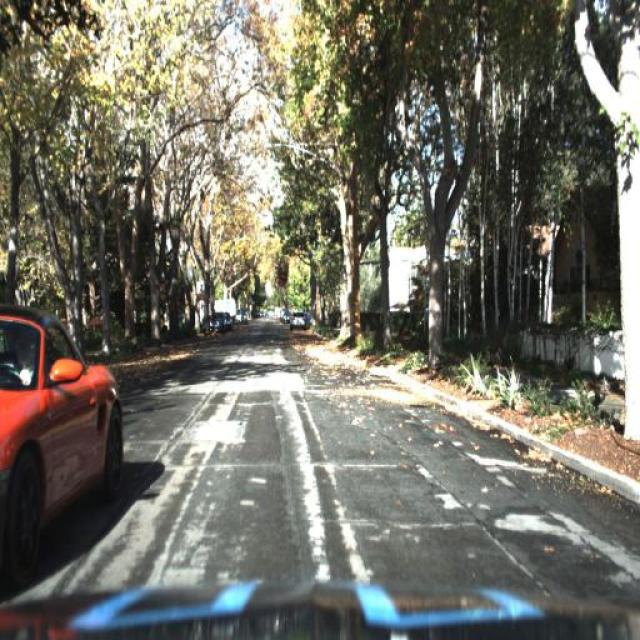car: (0, 299, 124, 597), (204, 306, 232, 335), (288, 300, 308, 334)
